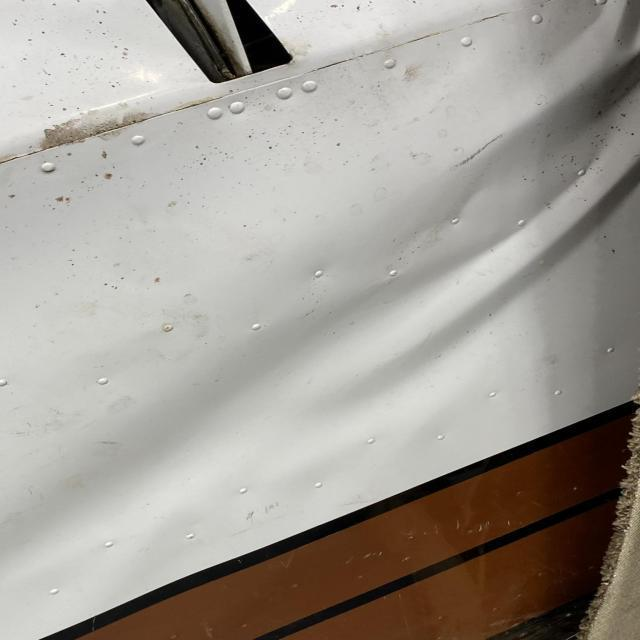Dent: (0, 0, 640, 611)
